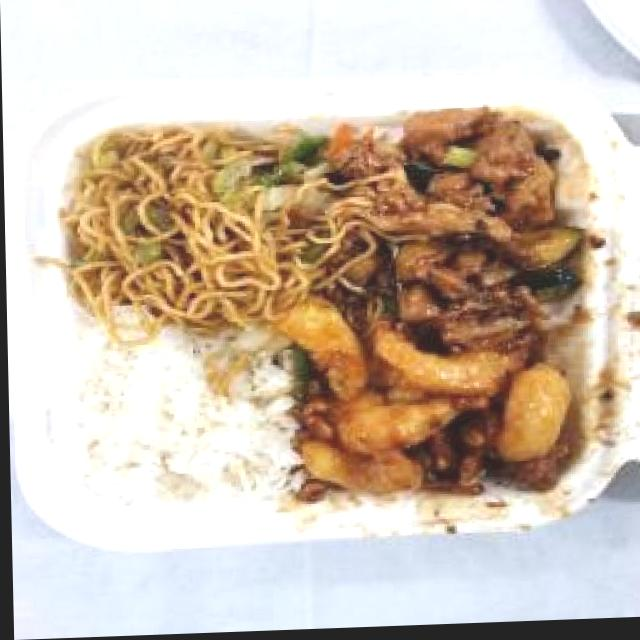Chow Mein: (52, 117, 344, 334)
Honey Walnut Shrimp: (285, 278, 579, 515)
Kung Pao Chicken: (344, 108, 586, 343)
White Steamed Rice: (61, 335, 292, 514)
